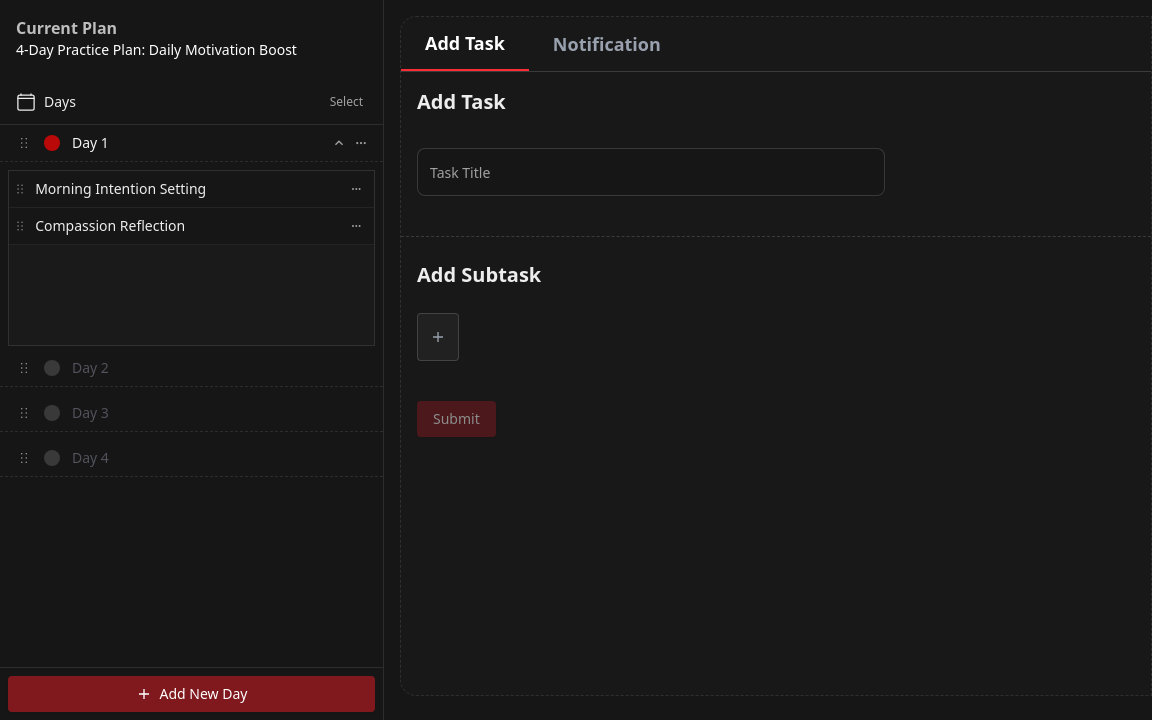
Test: PlanDetailsPanel Component › switches to task view after clicking a task
Expected: the text "4-Day Practice Plan: Daily Motivation Boost" is shown, x1=16 y1=40 x2=297 y2=59
Expected: the button "Add Task" is shown, x1=401 y1=17 x2=529 y2=71
Click the button "Morning Intention Setting" at [192, 190], box x1=9 y1=171 x2=374 y2=208
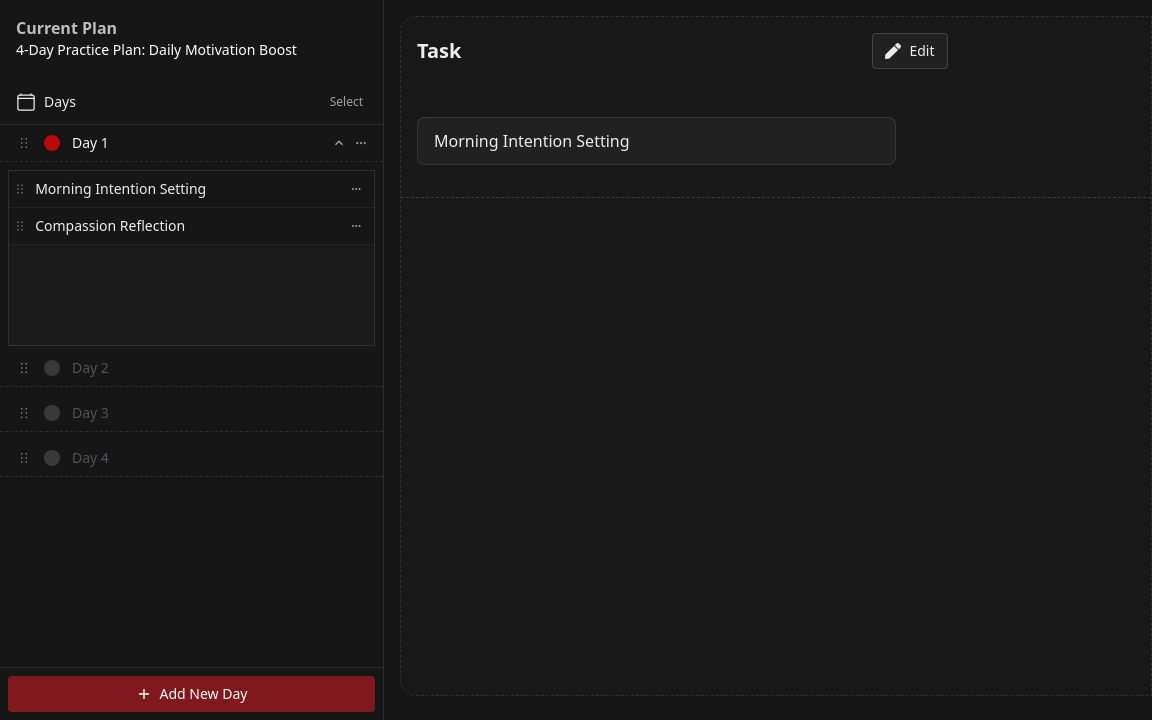
Expected: the heading "Task" is shown, x1=417 y1=37 x2=461 y2=65
Result: no buttons "Add Task" are shown
